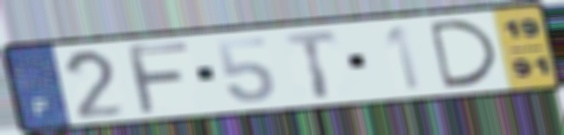1: (383, 25, 422, 90)
2: (61, 47, 127, 121)
5: (213, 35, 278, 104)
D: (424, 17, 502, 90)
F: (122, 40, 193, 117)
T: (281, 28, 342, 101)
